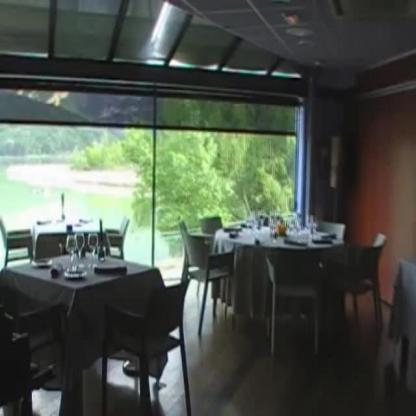other: (358, 107, 411, 256)
